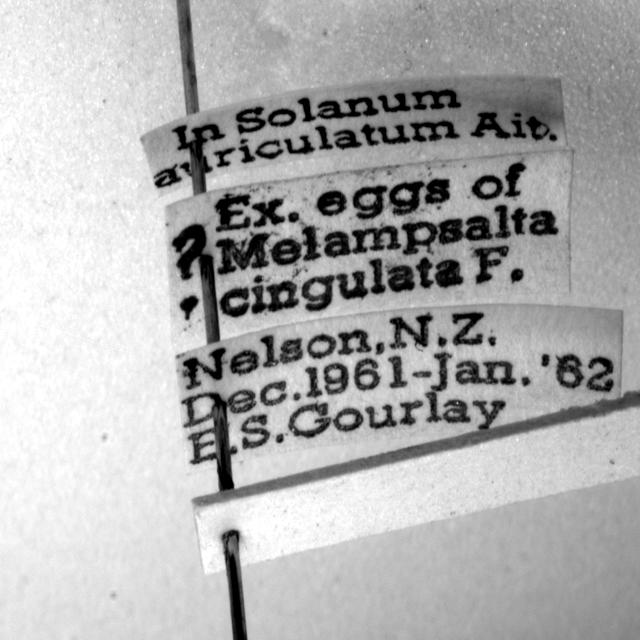mixed_label: (166, 150, 572, 347)
typed_label: (176, 306, 622, 472), (141, 77, 566, 195)
